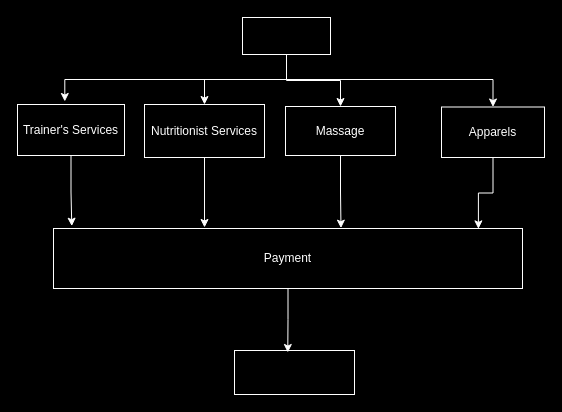
This 562x412 diagram has some shape labels left out. The shapes that lost their labels are listed below. From the top down, each one's box as (x1, y1, x2, y2) in pixels, then its label:
(242, 16, 330, 54): Log in
(234, 350, 354, 394): Database
